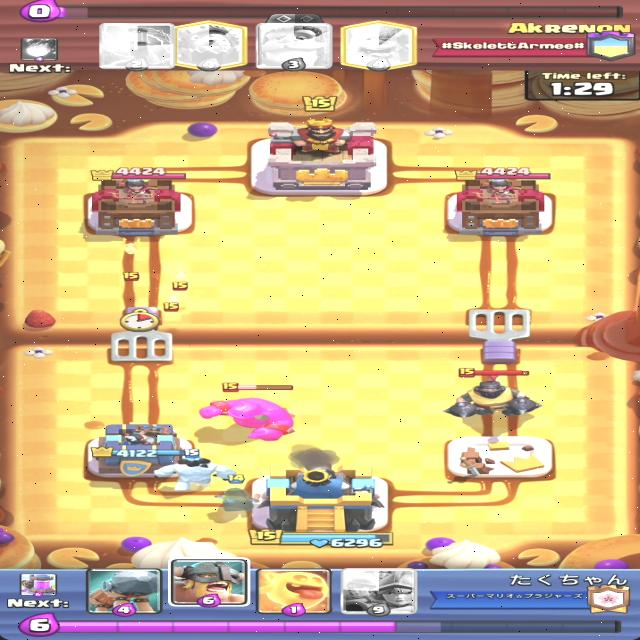Enemy-ElixirGolem: (200, 382, 298, 441)
Enemy-MegaKnight: (443, 368, 543, 420)
Player-Bandit: (213, 474, 262, 512)
Player-IceGolem: (151, 448, 238, 494)
